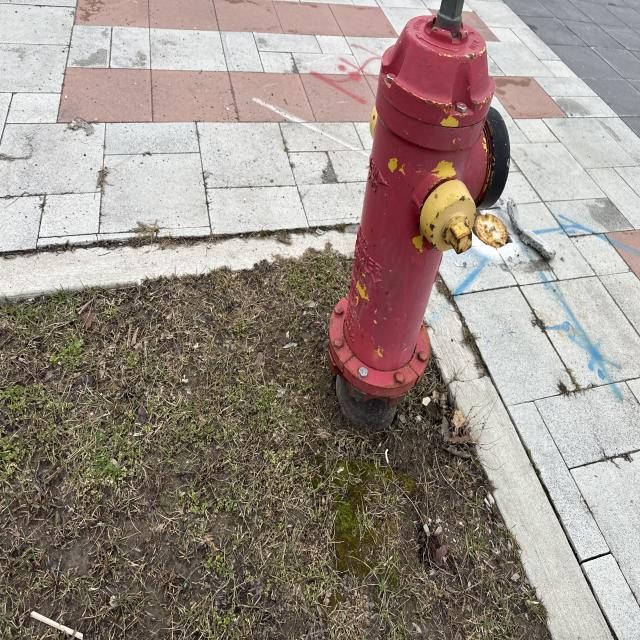Fire hydrant: (326, 0, 512, 408)
